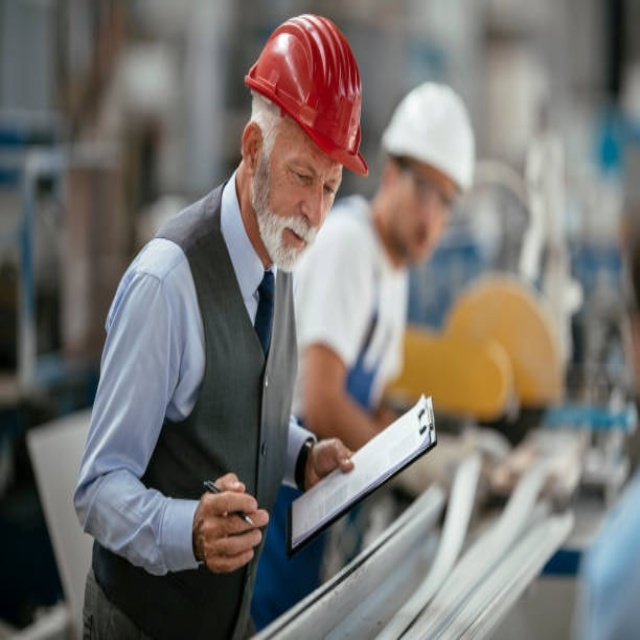Sin_gafas: (275, 144, 344, 207)
Sin_guantes: (192, 475, 270, 573), (303, 436, 355, 490)
Sin_mascara: (274, 220, 310, 260)
